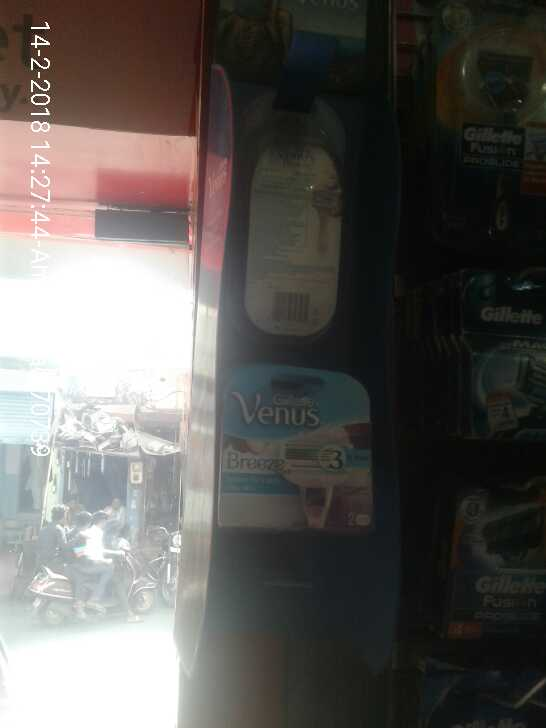beauty: (217, 361, 381, 534), (450, 502, 546, 644), (457, 120, 518, 248)
